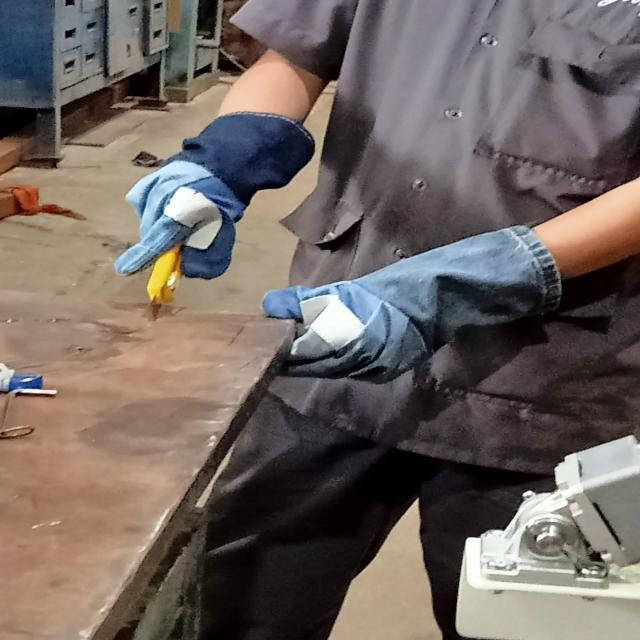Gloves-Detection: (270, 227, 533, 373), (121, 112, 314, 278)
